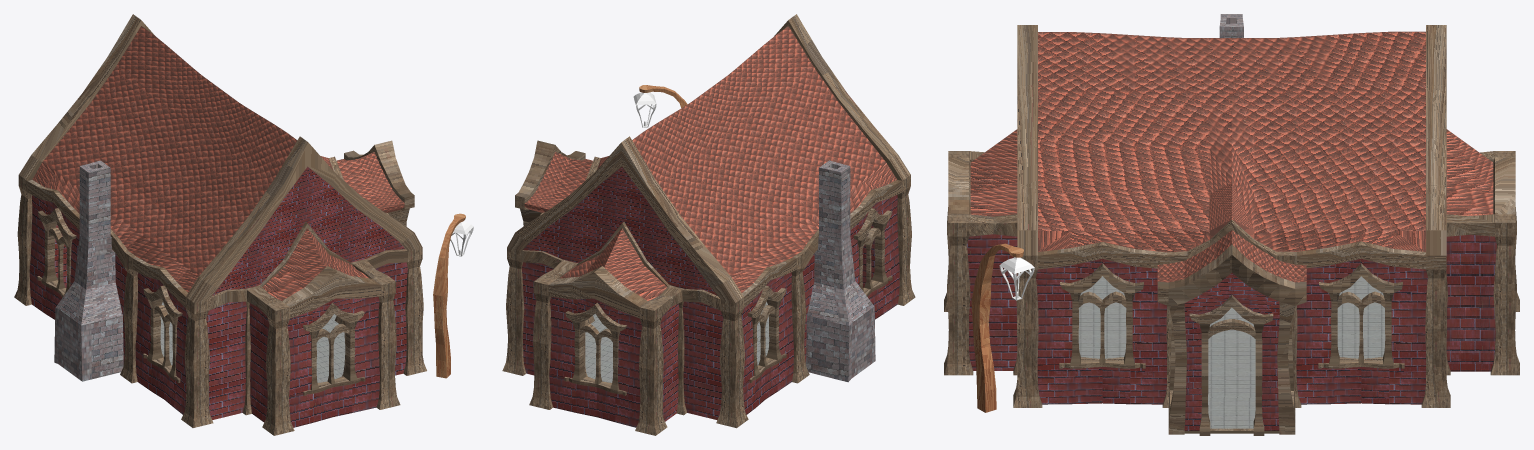
File: Fantasy_House.glb
3 views of the same model, side by side, from view 1: azimuth 30°, elevation 25°; view 2: azimuth 150°, elevation 25°; view 3: azimuth 270°, elevation 25° (orthographic). The views are drawn at different scales.
Visible parts, largest first — view 1: House, Lantern; view 2: House, Lantern; view 3: House, Lantern.
Boxes of the visible parts, bbox=[...] form: House: bbox=[14, 14, 426, 435]; Lantern: bbox=[433, 213, 473, 378]; House: bbox=[502, 14, 915, 435]; Lantern: bbox=[633, 85, 687, 127]; House: bbox=[944, 14, 1519, 435]; Lantern: bbox=[971, 243, 1034, 412].
Bounding box in the file's own units: 15.93 × 12.06 × 20.01.
Materials: 9 (7 with a texture image).
